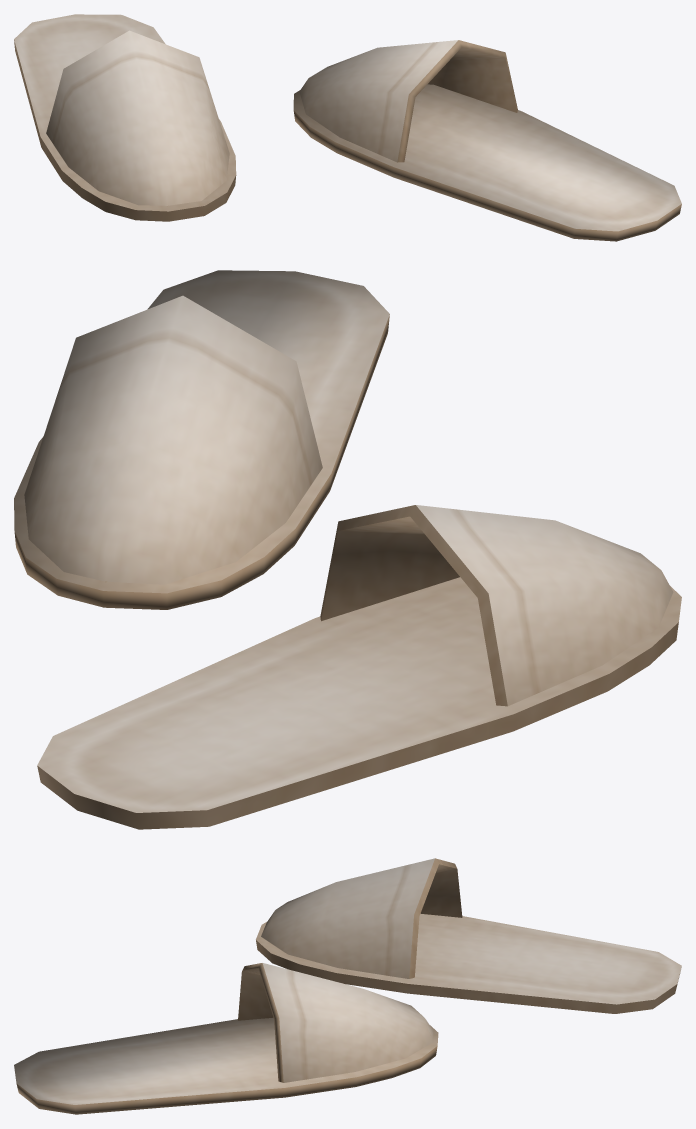
File: ShenMiRenJia_01_tuoxie_01.FBX
3 views of the same model, one above another, from view 1: azimuth 30°, elevation 25°; view 2: azimuth 150°, elevation 25°; view 3: azimuth 270°, elevation 25° (orthographic). The views are drawn at different scales.
Parts seen in each view (by area): view 1: ShenMiRenJia_01_tuoxie_01; view 2: ShenMiRenJia_01_tuoxie_01; view 3: ShenMiRenJia_01_tuoxie_01.
Boxes of the visible parts, bbox=[...] form: ShenMiRenJia_01_tuoxie_01: bbox=[14, 14, 681, 241]; ShenMiRenJia_01_tuoxie_01: bbox=[14, 270, 681, 829]; ShenMiRenJia_01_tuoxie_01: bbox=[14, 858, 681, 1114].
Bounding box in the file's own units: 223 × 53.32 × 314.
